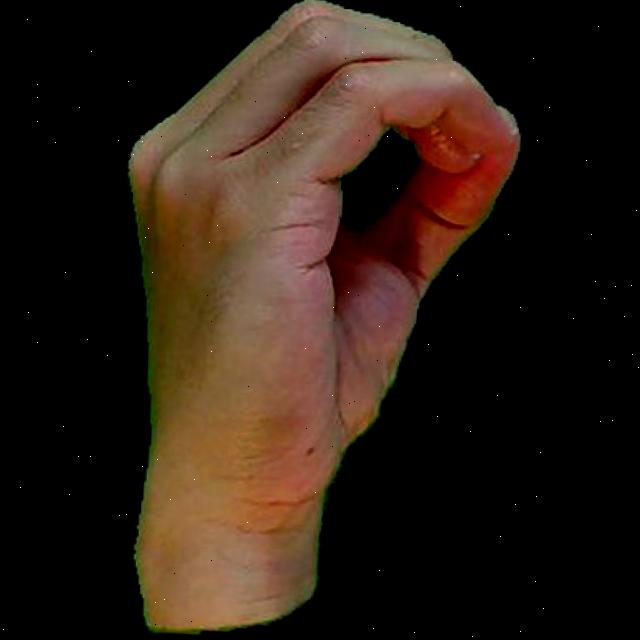o: (88, 0, 545, 640)
